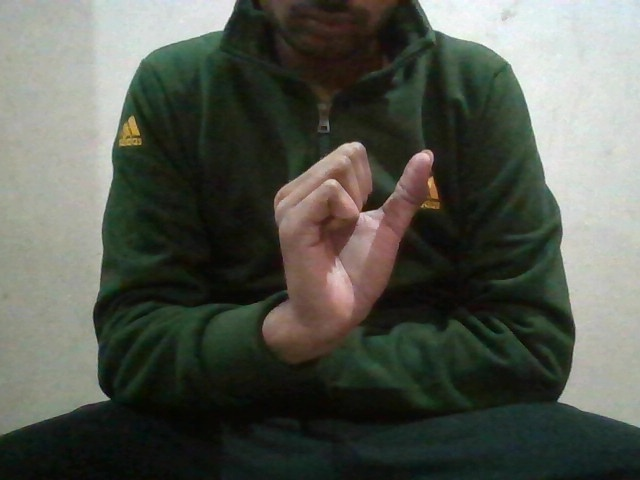S: (264, 129, 440, 319)
